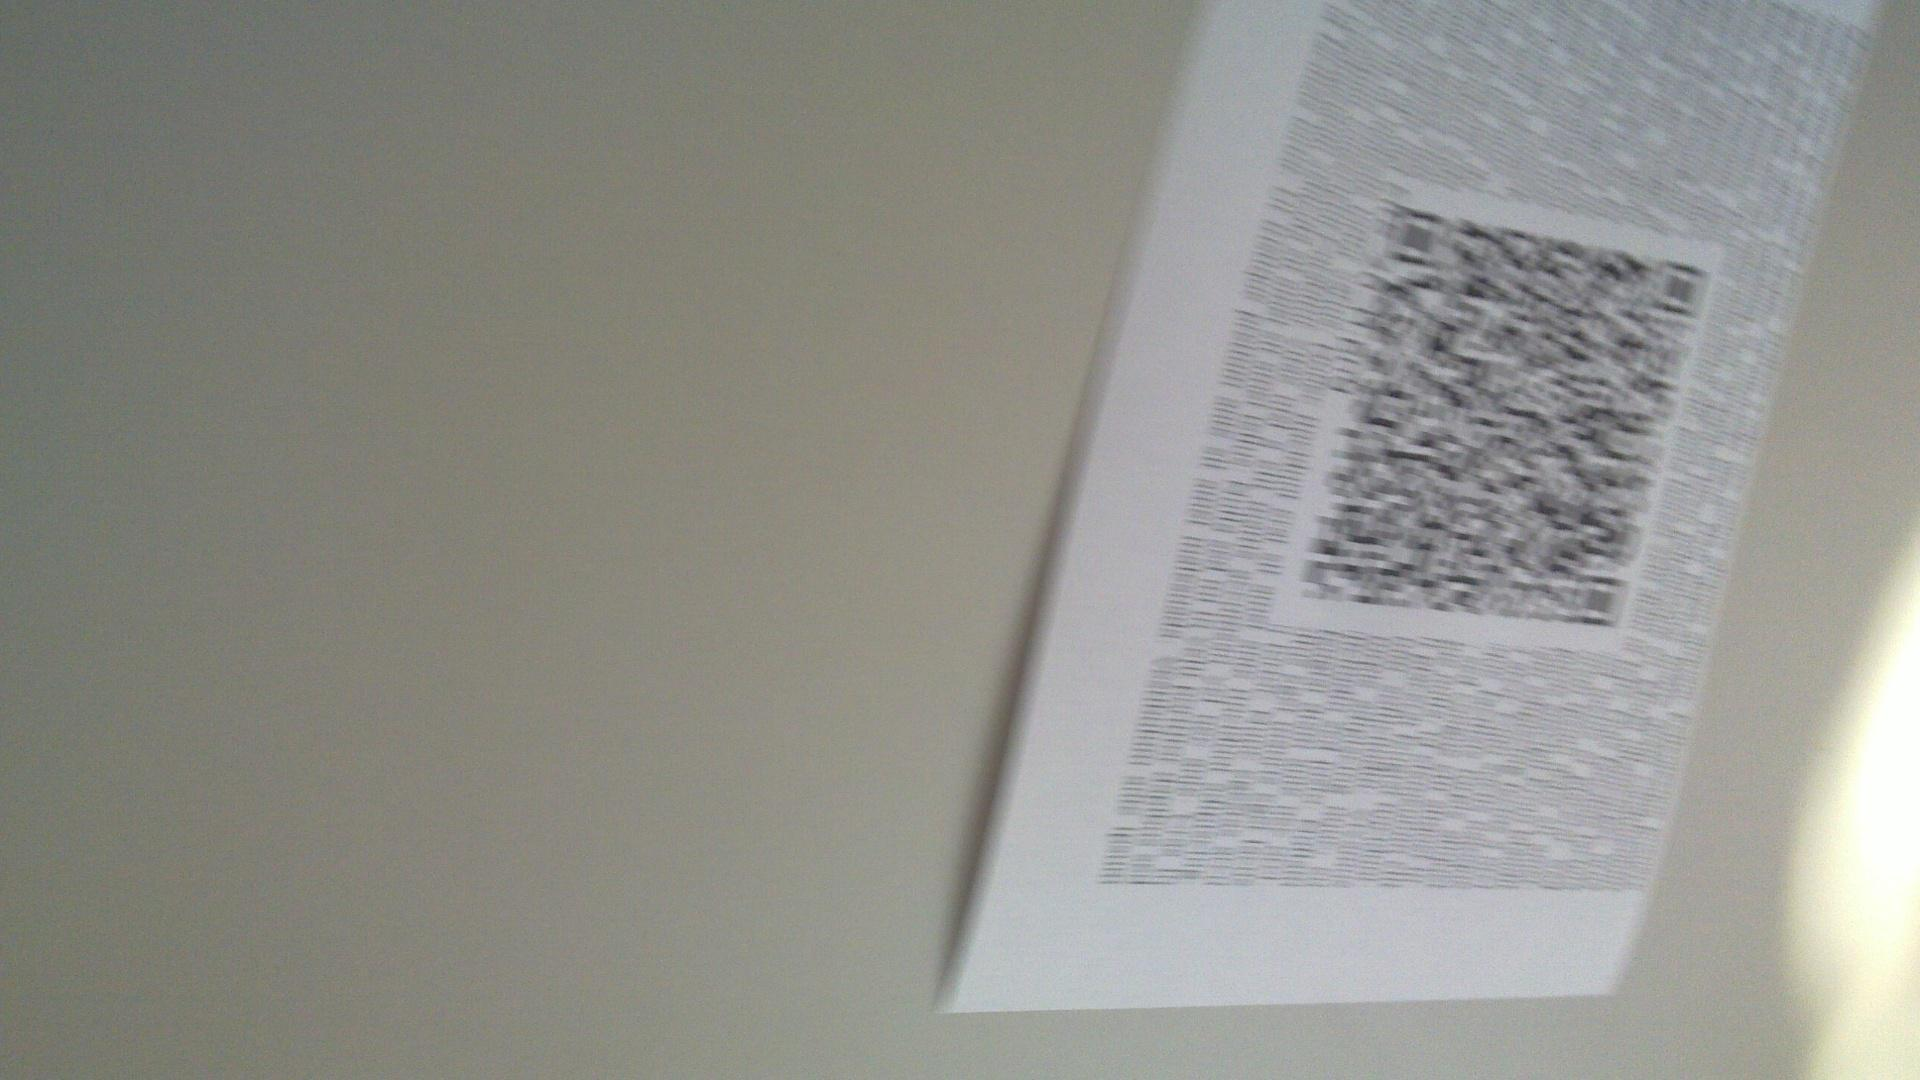Finder pattern: (1398, 202, 1444, 272), (1658, 258, 1708, 319), (1578, 568, 1625, 632)
